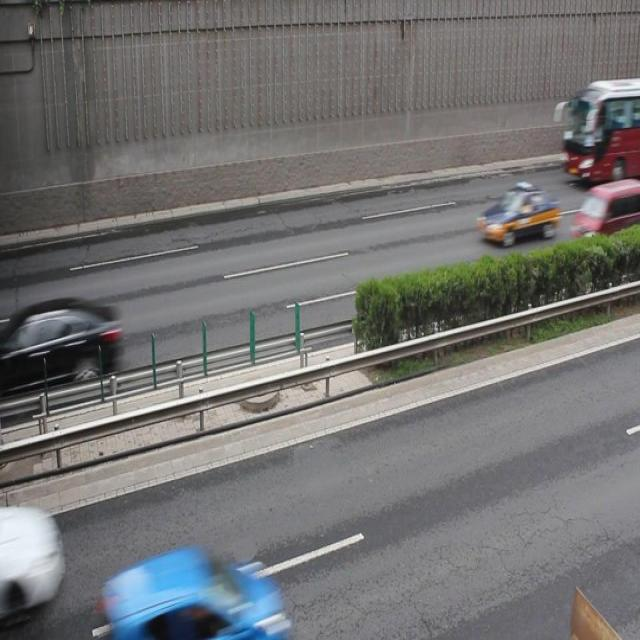car: (111, 551, 282, 640), (10, 299, 122, 384), (478, 181, 556, 243)
truck: (570, 185, 640, 249)
van: (552, 78, 640, 186)
